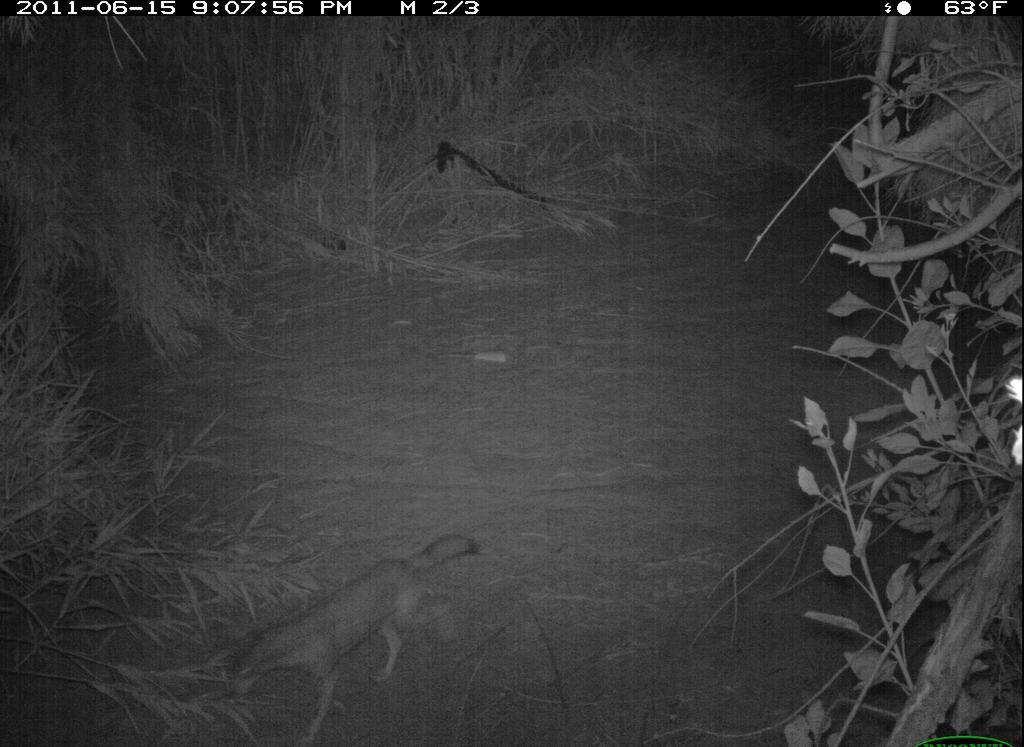coyote: (218, 528, 482, 747)
